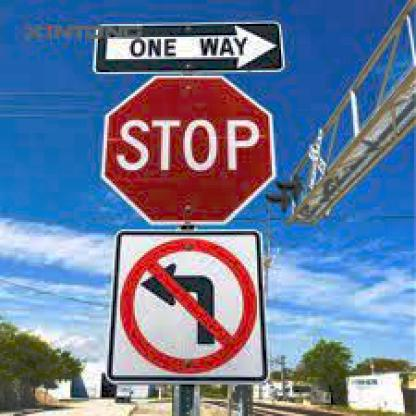No left turn: (115, 233, 263, 372)
